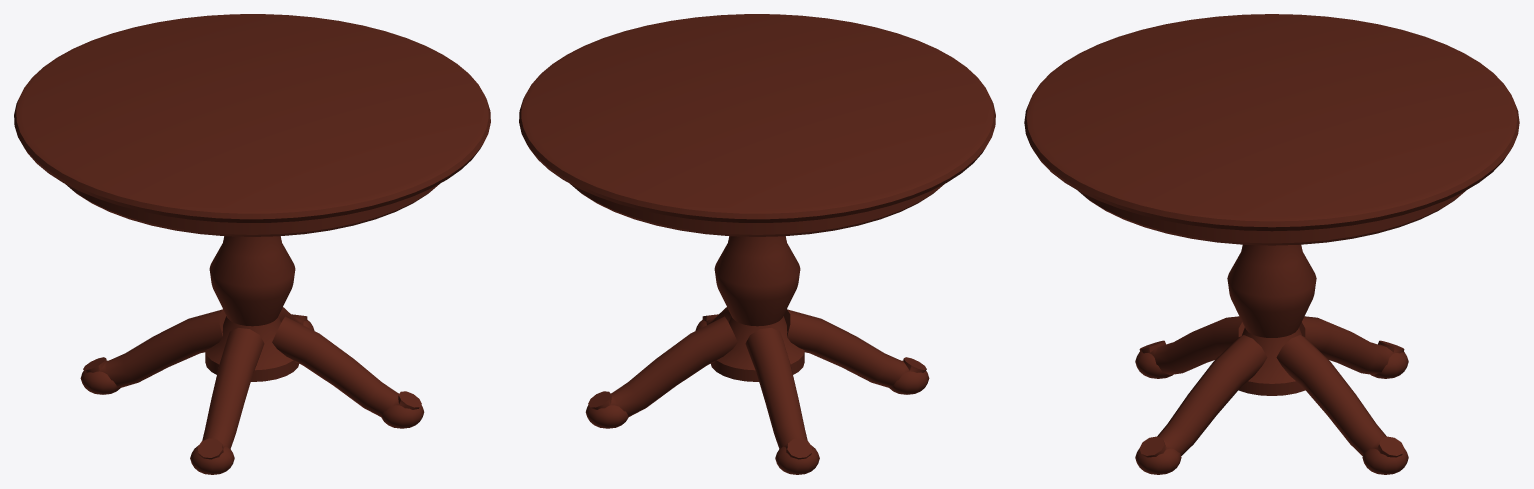
The model's file is RoundTable.glb.
3 renders of one model, left to right at view 1: azimuth 30°, elevation 25°; view 2: azimuth 150°, elevation 25°; view 3: azimuth 270°, elevation 25°, orthographic. The views are drawn at different scales.
Parts seen in each view (by area): view 1: RoundTable_Body; view 2: RoundTable_Body; view 3: RoundTable_Body.
Boxes of the visible parts, bbox=[...] form: RoundTable_Body: bbox=[14, 14, 490, 474]; RoundTable_Body: bbox=[519, 14, 995, 474]; RoundTable_Body: bbox=[1024, 14, 1519, 474].
Size of the model in its own units: 1.11 by 0.763 by 1.11.
